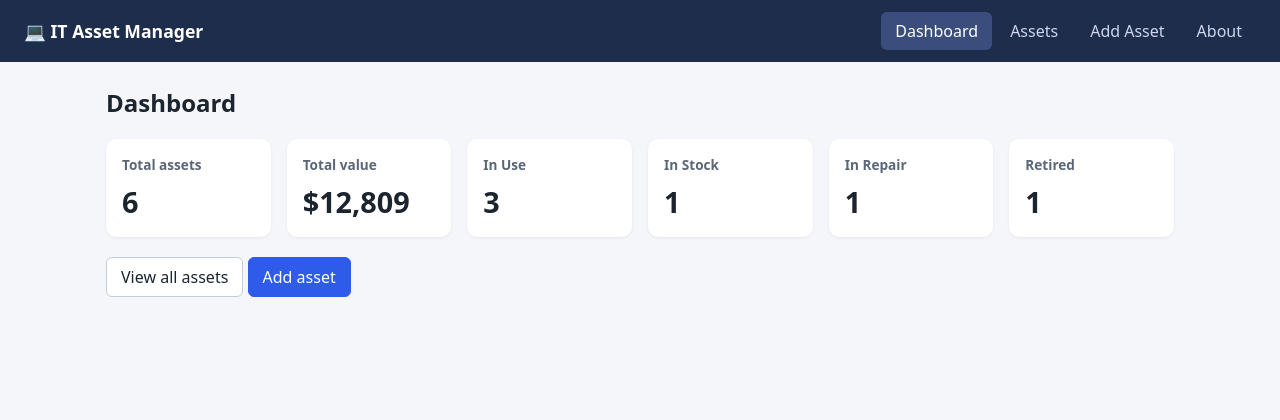
Test case: App › navigates via menu to About and shows team
Click the link "About" at (1219, 31), box [1197, 20, 1242, 42]
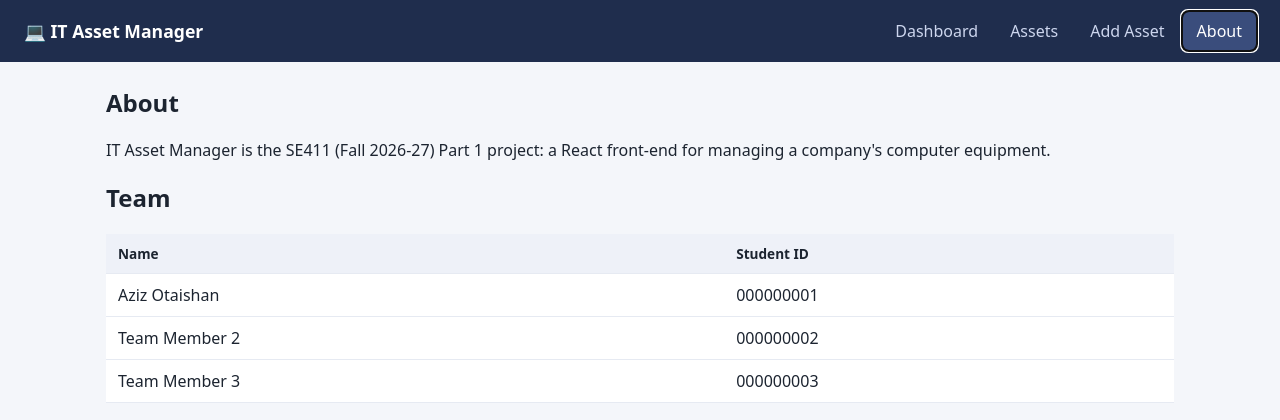
Now the heading "About" is shown, box [106, 86, 179, 119]
Now the column heading "Student ID" is shown, box [724, 234, 1174, 273]
